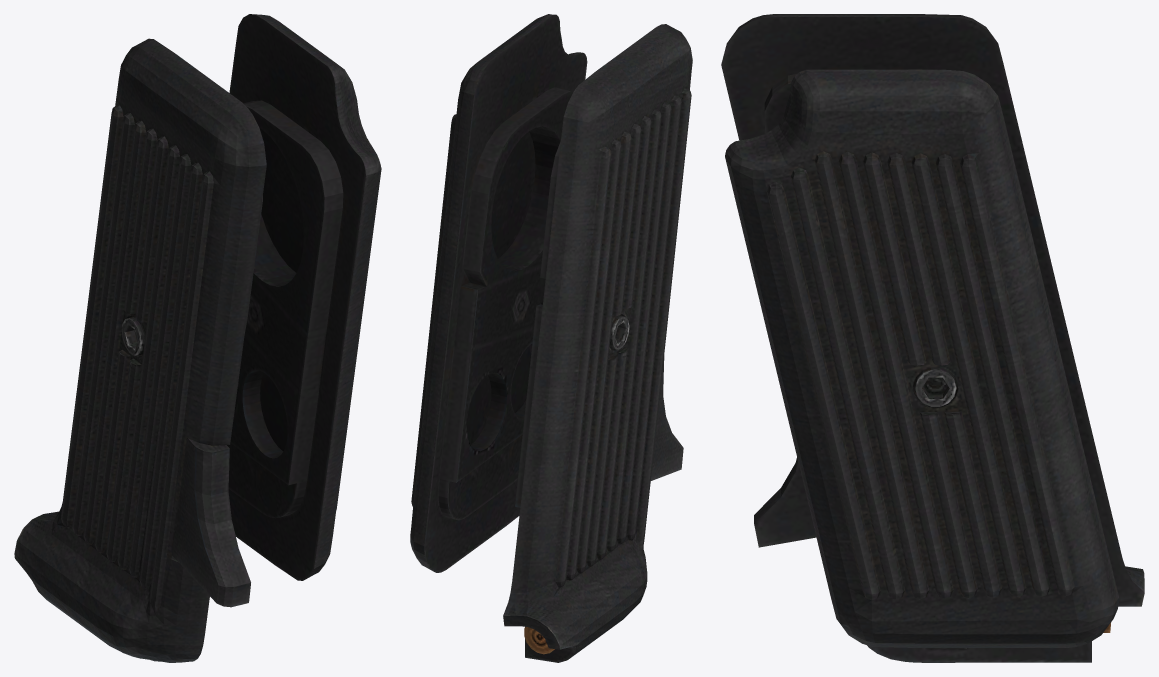
The picture shows the model from 3 angles, left to right: view 1: azimuth 30°, elevation 25°; view 2: azimuth 150°, elevation 25°; view 3: azimuth 270°, elevation 25°; orthographic projection. The views are drawn at different scales.
Parts seen in each view (by area): view 1: TW_5bffcf7a0db83400232fea79_PZ_Import; view 2: TW_5bffcf7a0db83400232fea79_PZ_Import; view 3: TW_5bffcf7a0db83400232fea79_PZ_Import.
Part boxes in pixels (x1,y1,x2,y2): TW_5bffcf7a0db83400232fea79_PZ_Import: (14,14,381,662); TW_5bffcf7a0db83400232fea79_PZ_Import: (410,14,692,662); TW_5bffcf7a0db83400232fea79_PZ_Import: (721,14,1144,662).
Bounding box in the file's own units: 0.0186 × 0.032 × 0.0539.
Materials: 1 (1 with a texture image).
